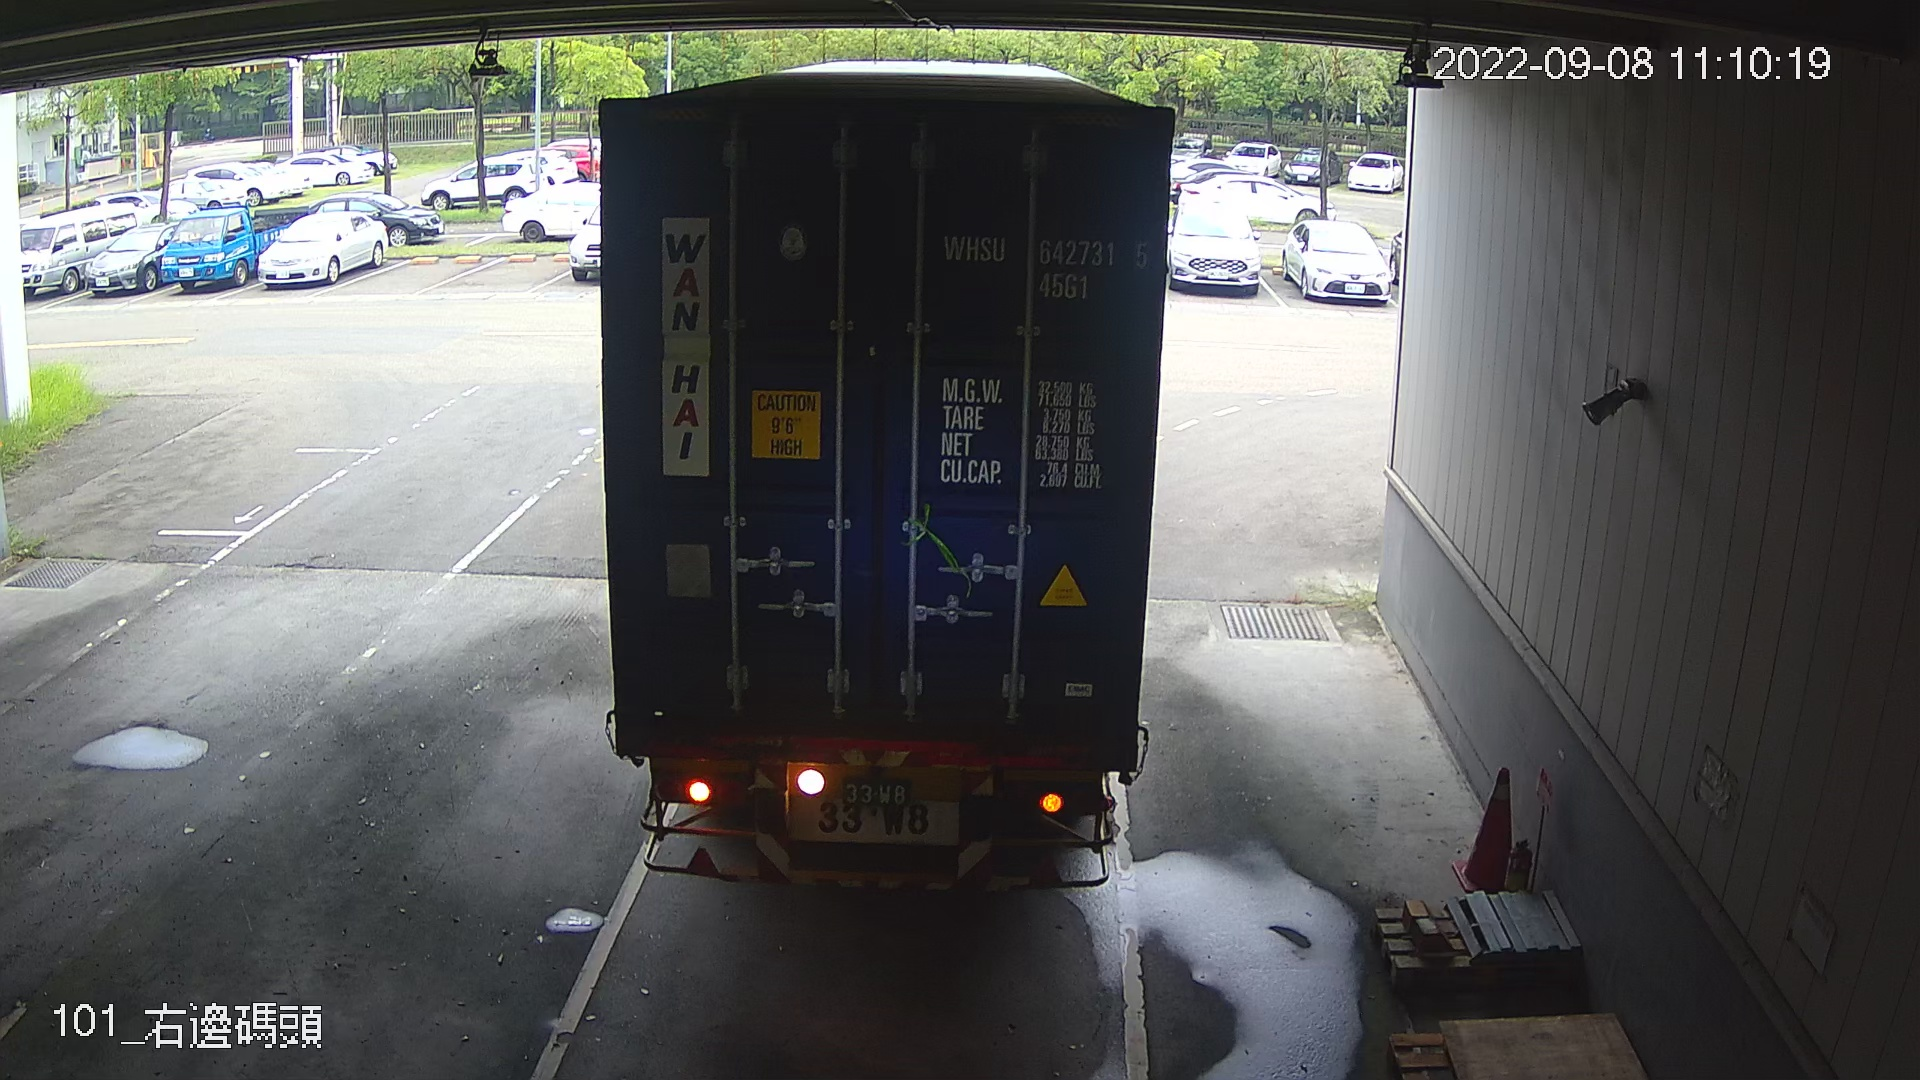container: (928, 219, 1156, 311)
